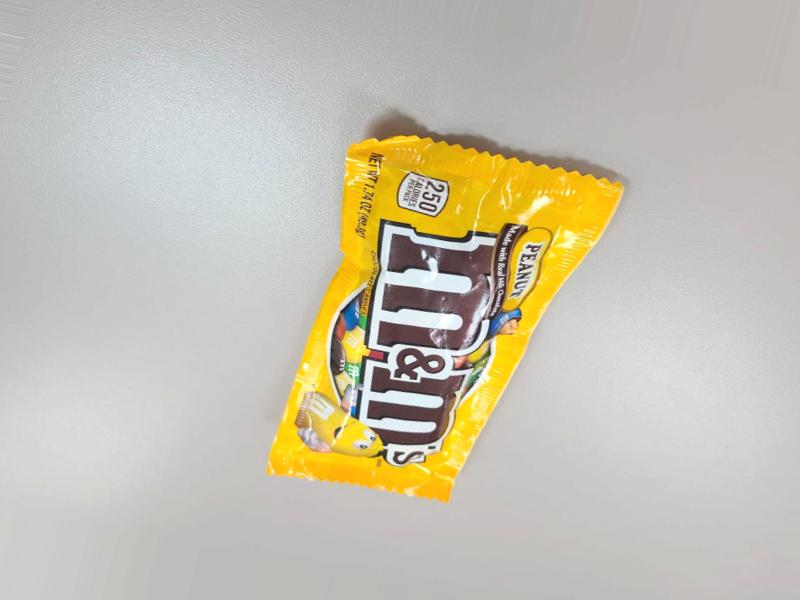m&m: (226, 109, 629, 544)
